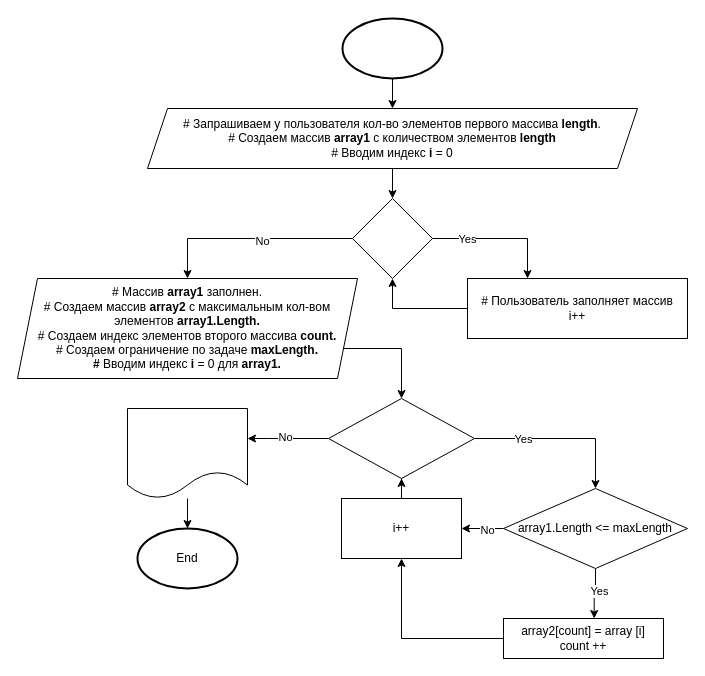
Image size: 705x676. Some labels were removed from this diagram. The shapes that lost their labels are listed below. From the top down, each one's box as (x1, y1, x2, y2) in pixels, then its label:
(341, 17, 443, 79): Start
(352, 198, 432, 278): i < length
(126, 408, 248, 498): print (array1) print (array2) # Сравниваем
(328, 398, 474, 478): i < array1.Length
